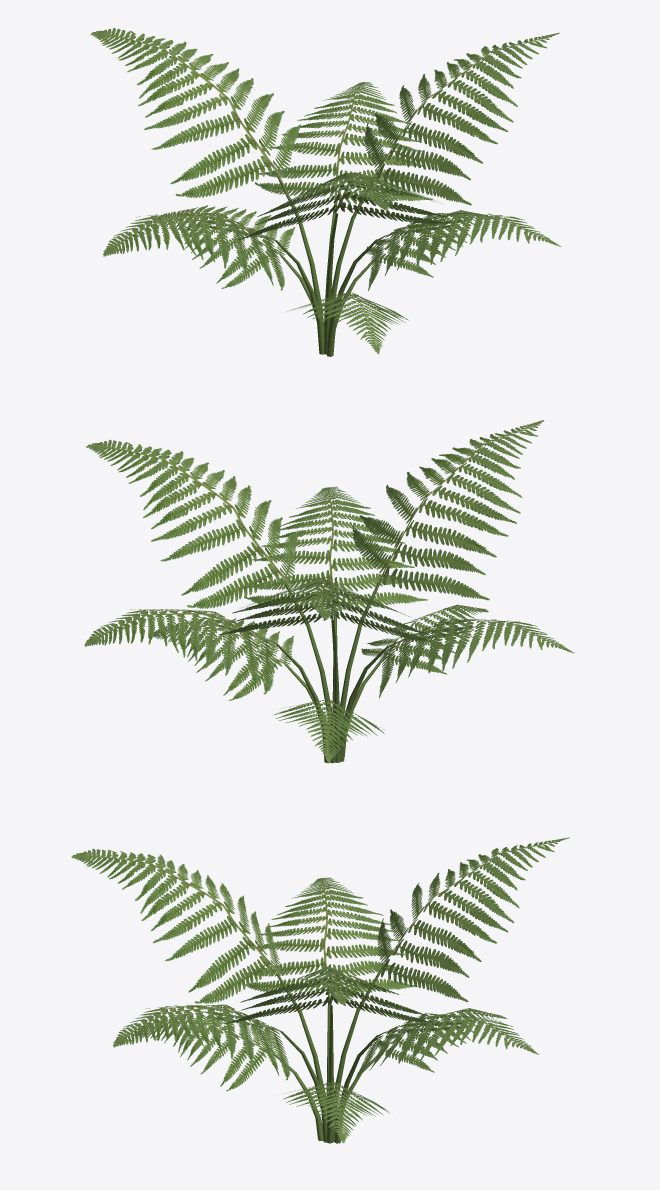
Rendered from fern3.FBX.
3 views of the same model, one above another, from view 1: azimuth 30°, elevation 25°; view 2: azimuth 150°, elevation 25°; view 3: azimuth 270°, elevation 25° (orthographic). The views are drawn at different scales.
Visible parts, largest first — view 1: fern3; view 2: fern3; view 3: fern3.
Boxes of the visible parts, left/top/right/bottom form: fern3: left=90, top=28, right=561, bottom=356; fern3: left=84, top=420, right=574, bottom=763; fern3: left=71, top=837, right=569, bottom=1143.
Bounding box in the file's own units: 3.48 × 1.7 × 3.84.
